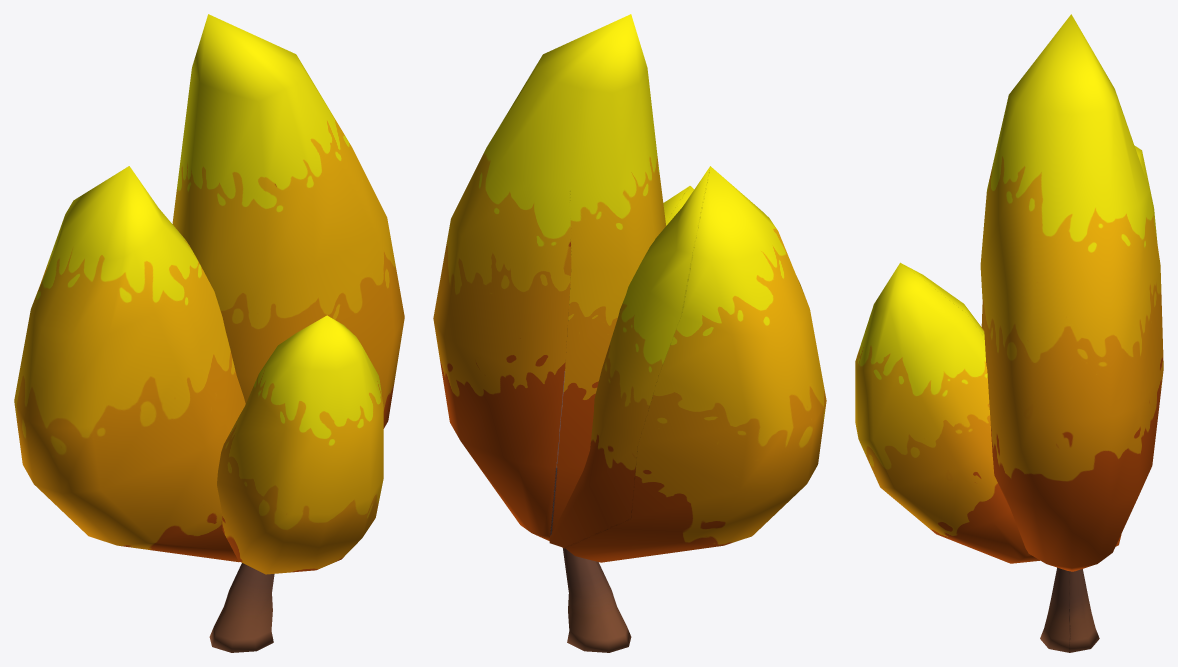
Rendered from Tree_Orange3.fbx.
The picture shows the model from 3 angles, left to right: view 1: azimuth 30°, elevation 25°; view 2: azimuth 150°, elevation 25°; view 3: azimuth 270°, elevation 25°; orthographic projection. The views are drawn at different scales.
Parts seen in each view (by area): view 1: polySurface21; view 2: polySurface21; view 3: polySurface21.
Boxes of the visible parts, x1=… form: polySurface21: x1=14, y1=14, x2=404, y2=652; polySurface21: x1=433, y1=14, x2=826, y2=652; polySurface21: x1=855, y1=14, x2=1163, y2=652.
Bounding box in the file's own units: 5.02 × 8.21 × 3.77.
